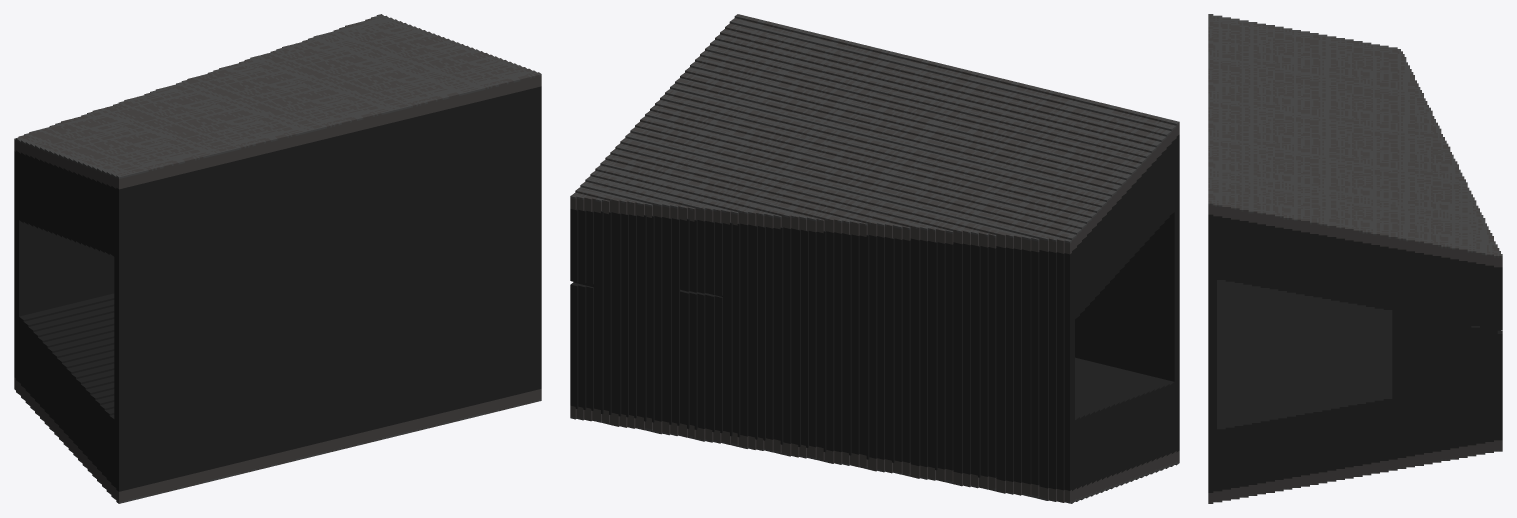
Rendered from Space ship-0.obj.
The picture shows the model from 3 angles, left to right: view 1: azimuth 30°, elevation 25°; view 2: azimuth 150°, elevation 25°; view 3: azimuth 270°, elevation 25°; orthographic projection. The views are drawn at different scales.
Bounding box in the file's own units: 25.6 × 18.9 × 16.8.
Materials: 1 (1 with a texture image).
